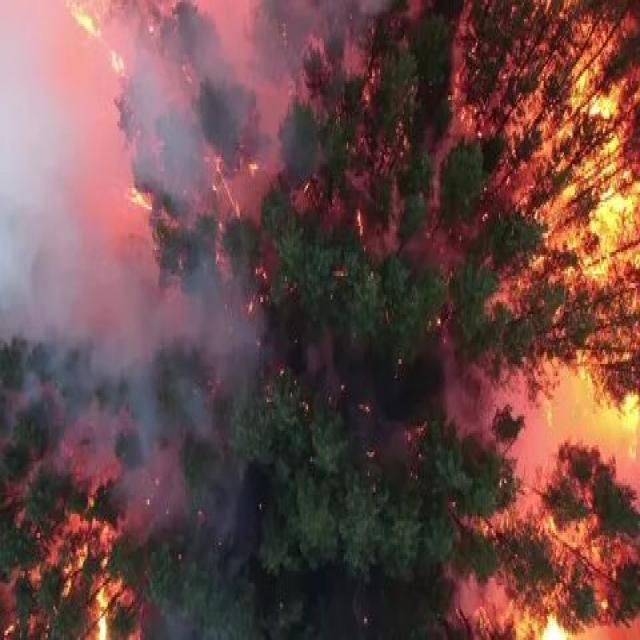Fire: (514, 28, 640, 310)
Smoke: (0, 0, 267, 376)
